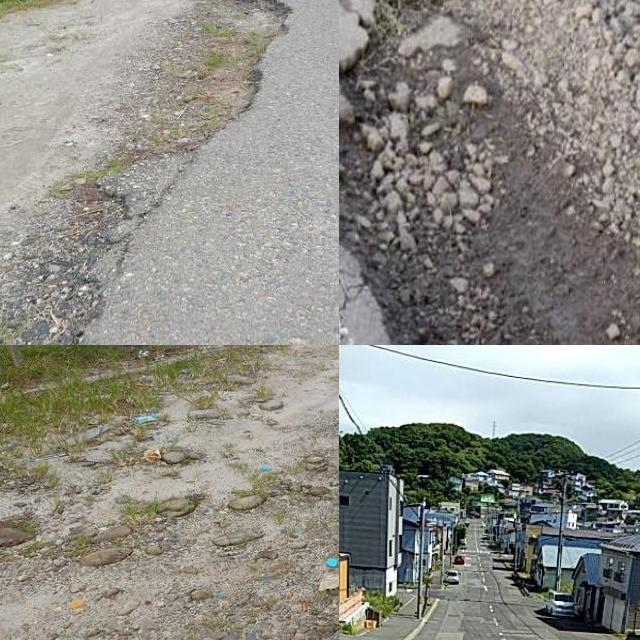Pinggir: (339, 0, 640, 345), (212, 345, 339, 640), (193, 0, 306, 198)
